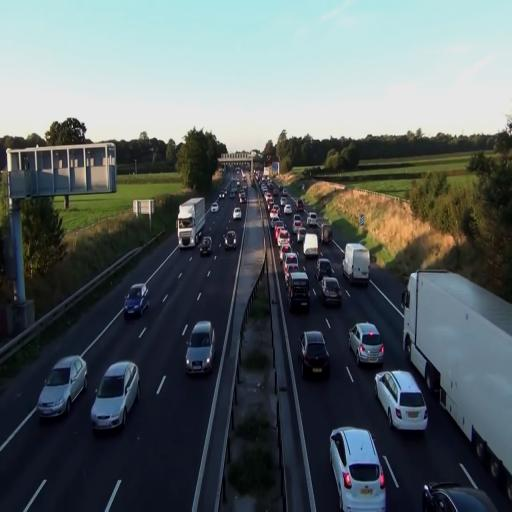vehicle: (400, 269, 512, 503), (330, 426, 386, 512), (90, 360, 140, 432), (374, 369, 429, 432), (38, 354, 87, 421), (422, 482, 499, 512), (185, 320, 215, 376), (176, 195, 206, 249), (176, 196, 206, 249), (349, 321, 384, 365), (300, 330, 330, 377), (342, 241, 371, 287), (343, 242, 371, 288), (289, 269, 311, 314), (124, 283, 148, 319), (320, 276, 342, 308), (316, 257, 334, 282), (198, 233, 213, 256), (224, 226, 238, 250)
